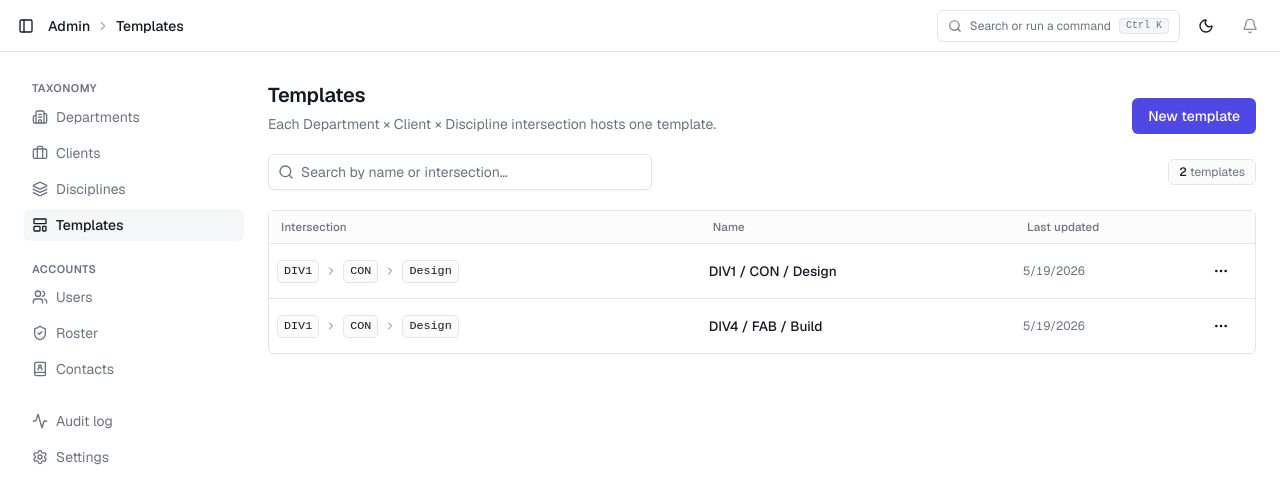
Test: TemplatesListPage › filters templates via the client-side search
This screenshot has width=1280, height=482.
Expected: the link "DIV1 / CON / Design" is shown, 709,262 -> 837,280
Expected: the link "DIV4 / FAB / Build" is shown, 709,317 -> 822,335
Type "FAB" into the field named "search templates" at (460, 172), box 268,154 -> 652,190
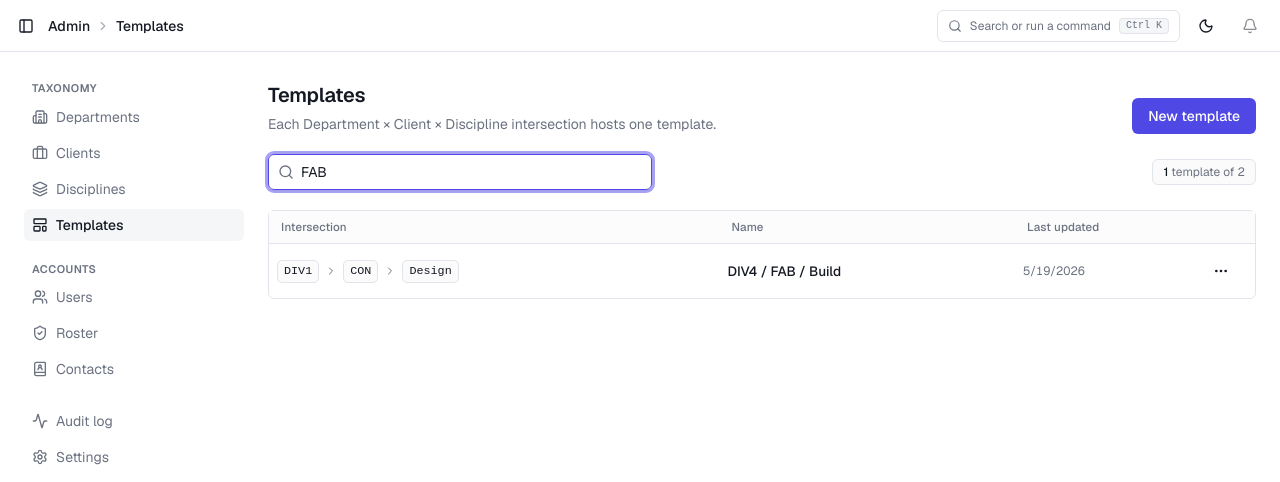
Expected: the link "DIV4 / FAB / Build" is shown, 728,262 -> 841,280
Expected: the link "DIV1 / CON / Design" is gone
